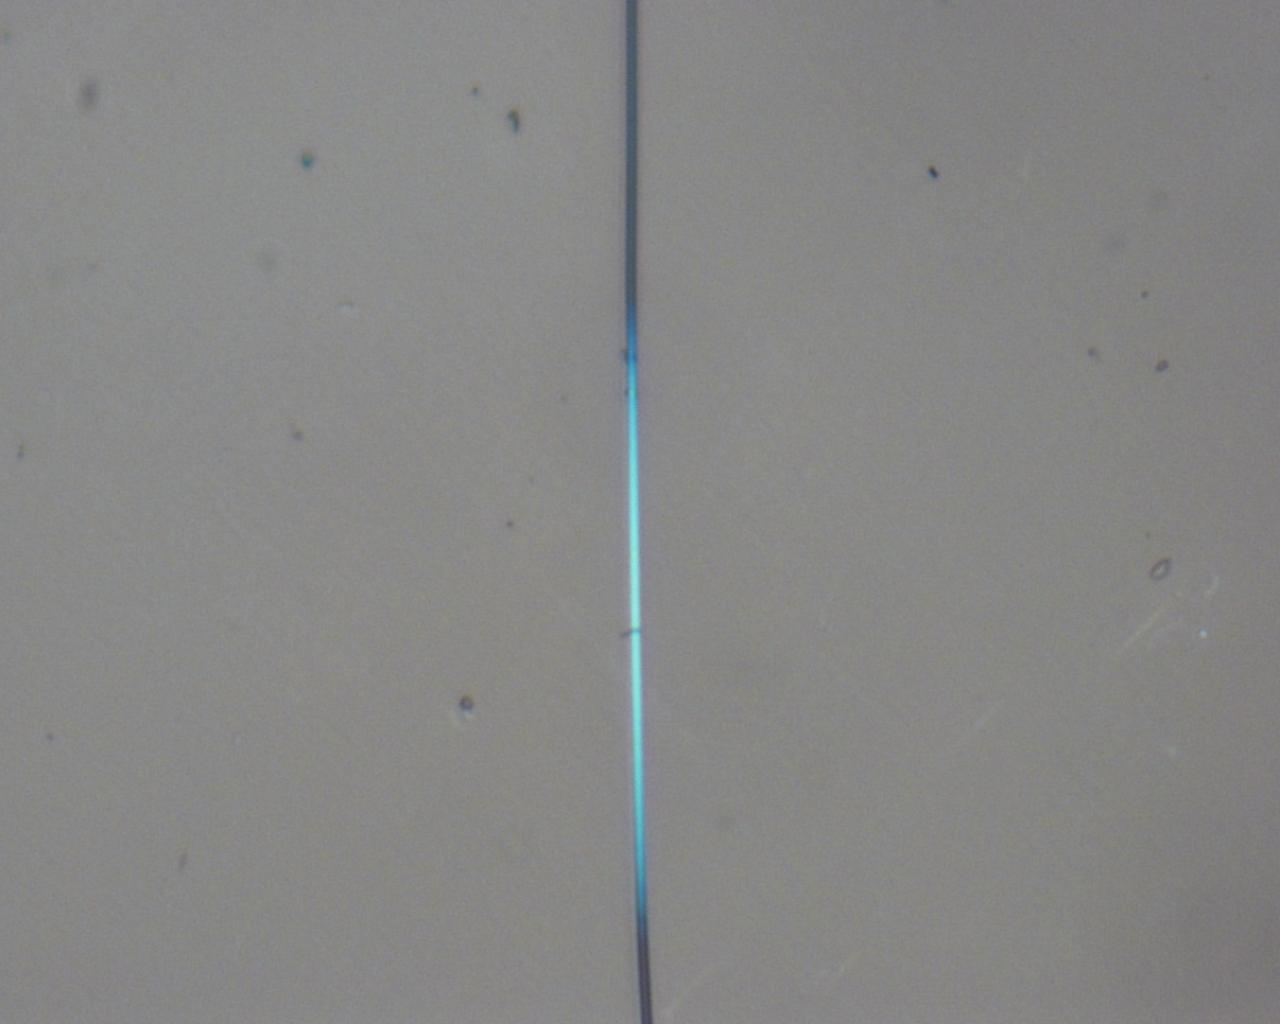fiber: (627, 0, 654, 1024)
